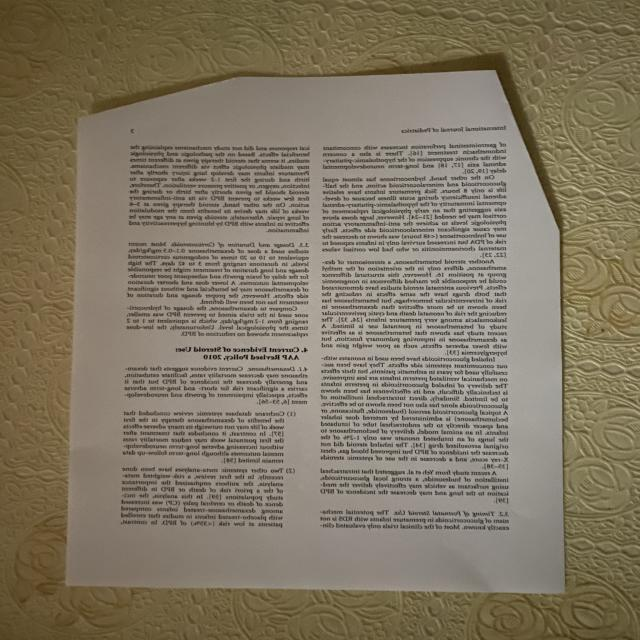kertas: (67, 66, 570, 593)
